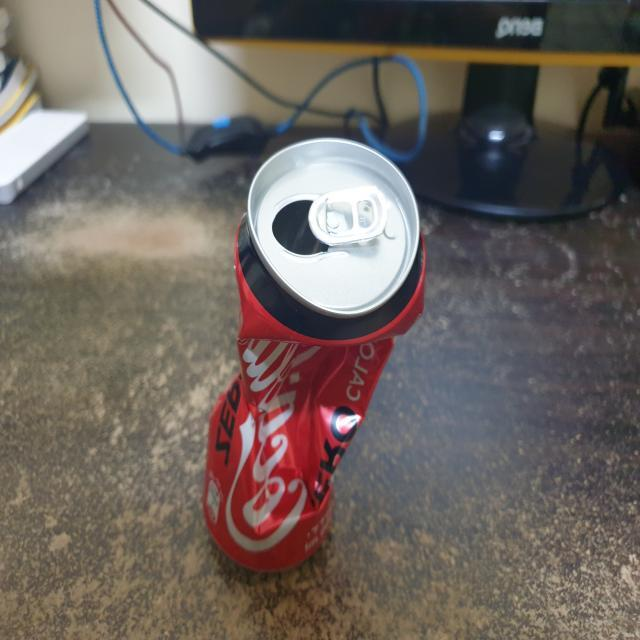can: (192, 111, 439, 588)
